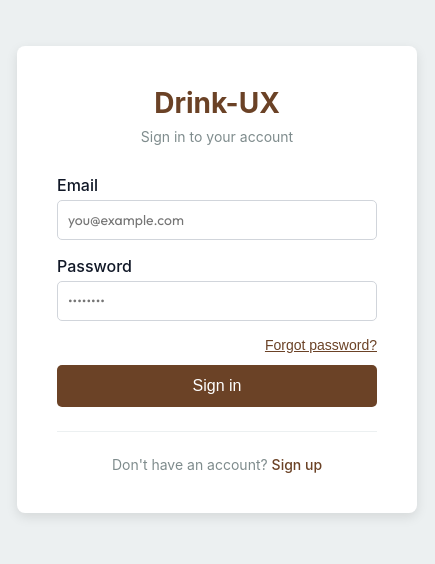
Test: Login › shows error message when login fails
In the field labelled "Email": coordinates (217, 220) 57,200 -> 377,240, type "test@example.com"
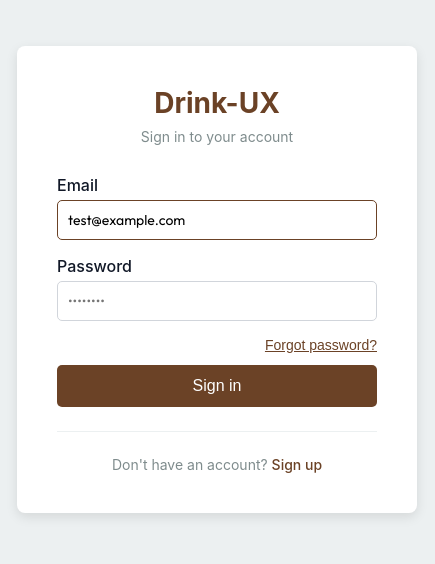
In the password field labelled "Password": coordinates (217, 300) 57,280 -> 377,320, type "wrong"
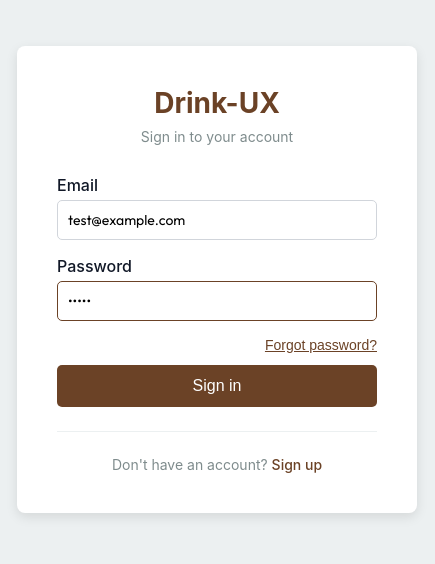
Click the button "Sign in": coordinates (217, 386) 57,364 -> 377,406
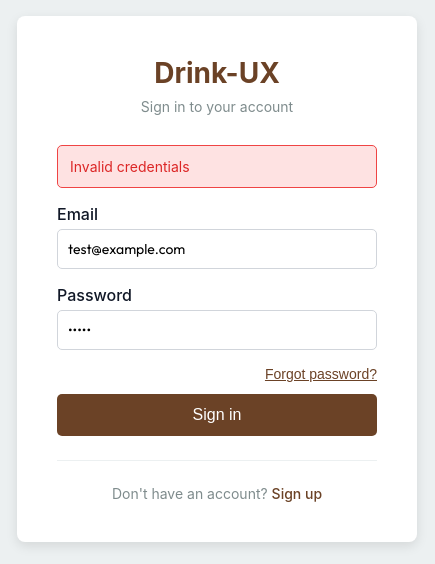
Result: the text "Invalid credentials" is shown at 57,145 -> 377,188
